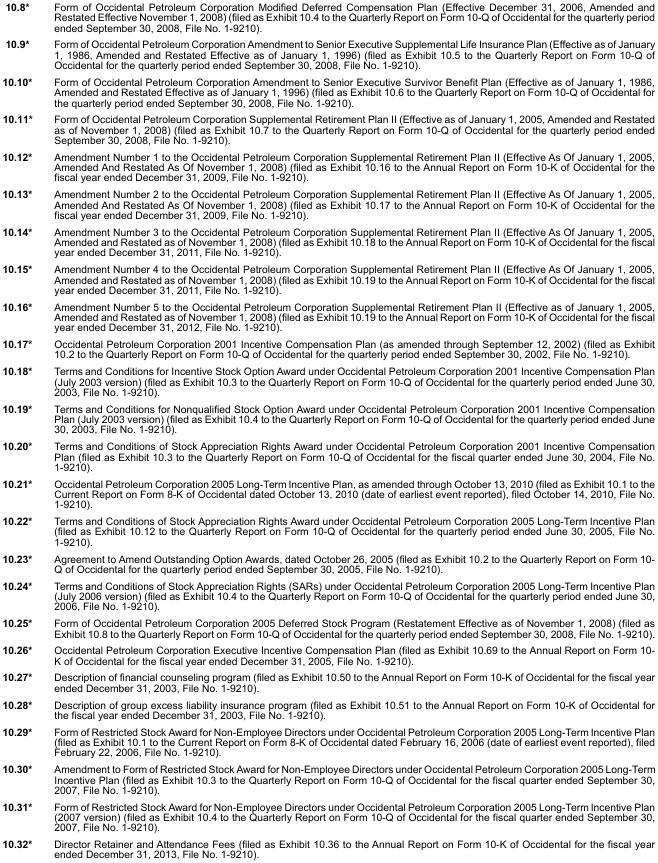table: (1, 0, 654, 859)
table column: (42, 0, 654, 859), (1, 0, 42, 859)
table row: (1, 72, 654, 110), (1, 147, 654, 185), (1, 222, 654, 260), (1, 297, 654, 335), (1, 399, 654, 437), (1, 474, 654, 512), (1, 576, 654, 614), (1, 722, 654, 760), (1, 797, 654, 835), (1, 35, 654, 72), (1, 110, 654, 147), (1, 185, 654, 222), (1, 260, 654, 297), (1, 362, 654, 399), (1, 437, 654, 474), (1, 512, 654, 549), (1, 760, 654, 797), (1, 0, 654, 35), (1, 335, 654, 362), (1, 549, 654, 576), (1, 614, 654, 641), (1, 641, 654, 668), (1, 668, 654, 695), (1, 695, 654, 722), (1, 835, 654, 859)
